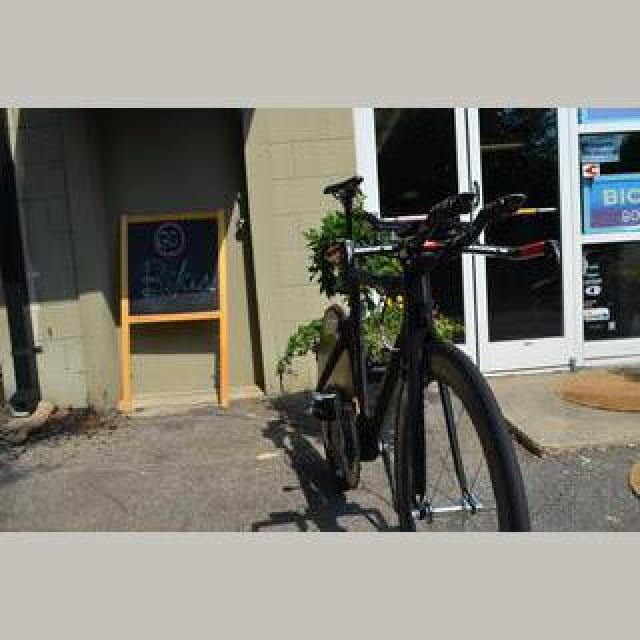Person: (295, 179, 547, 531)
